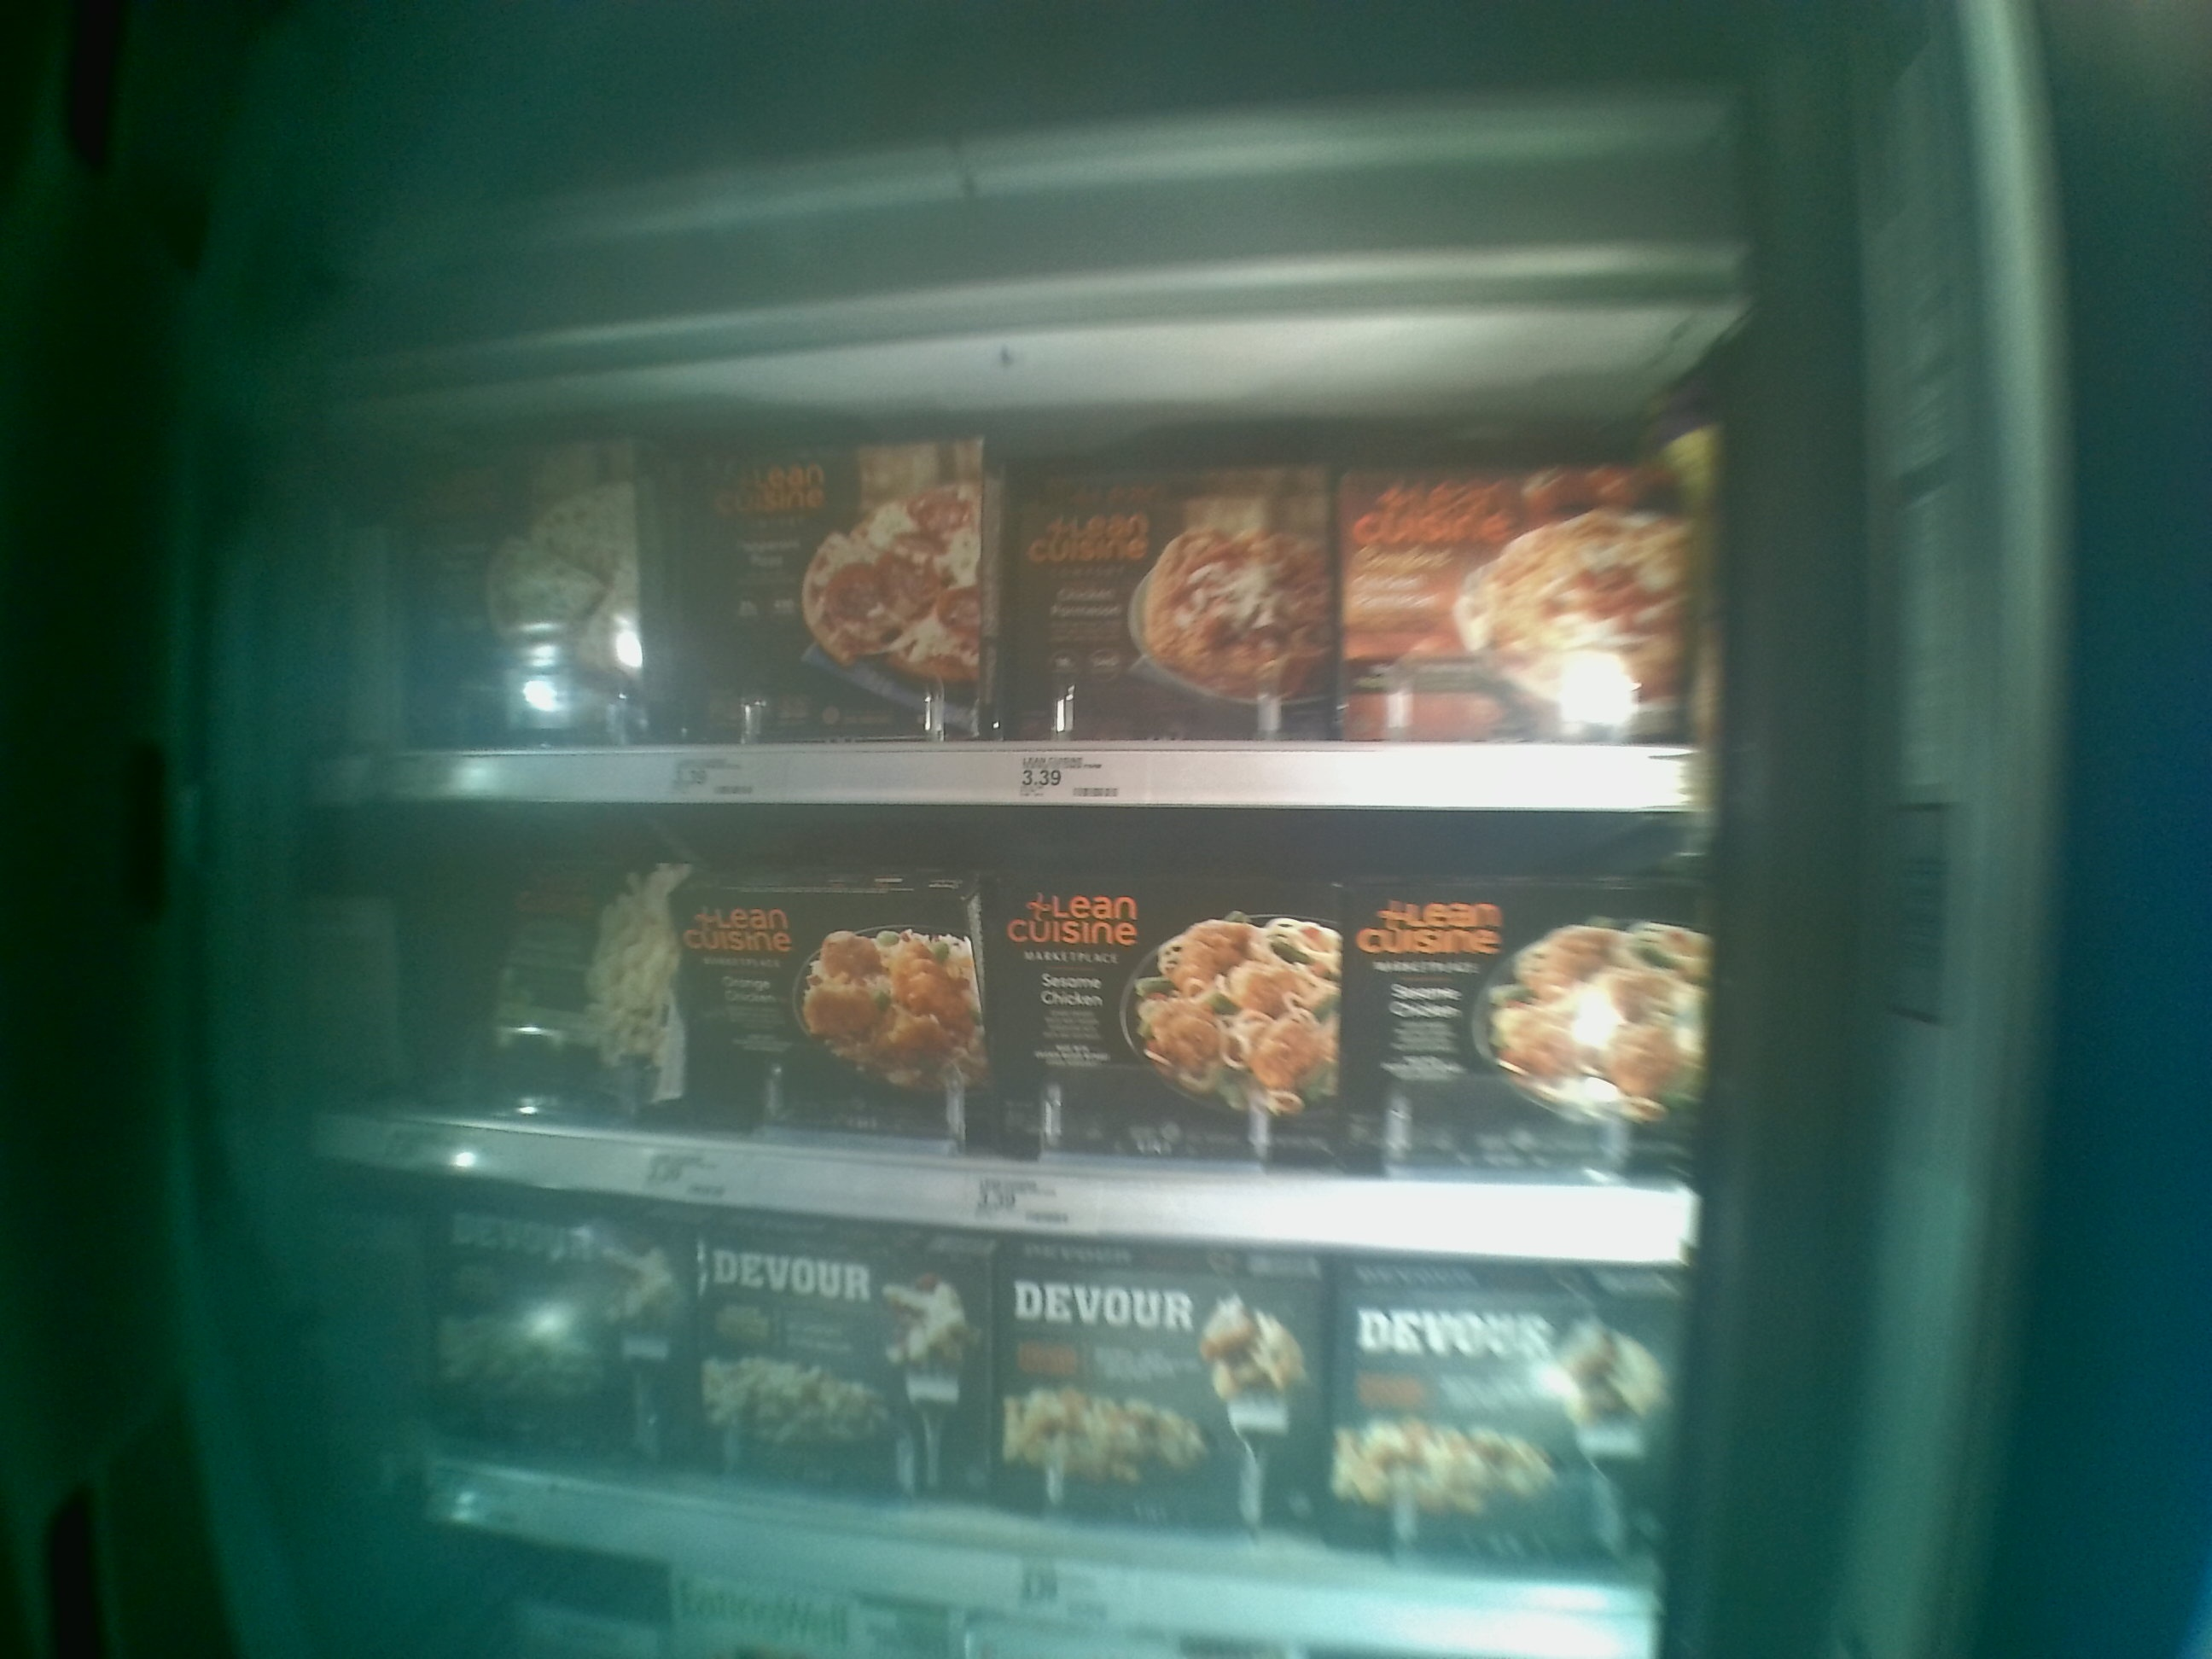shelf: (315, 803, 1700, 1270), (320, 369, 1707, 807)
